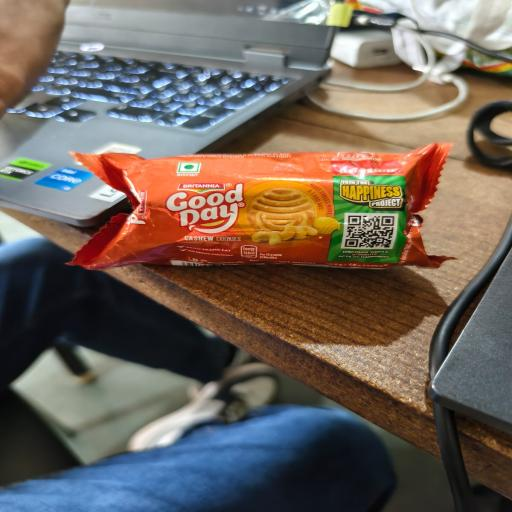goodday: (72, 144, 450, 268)
